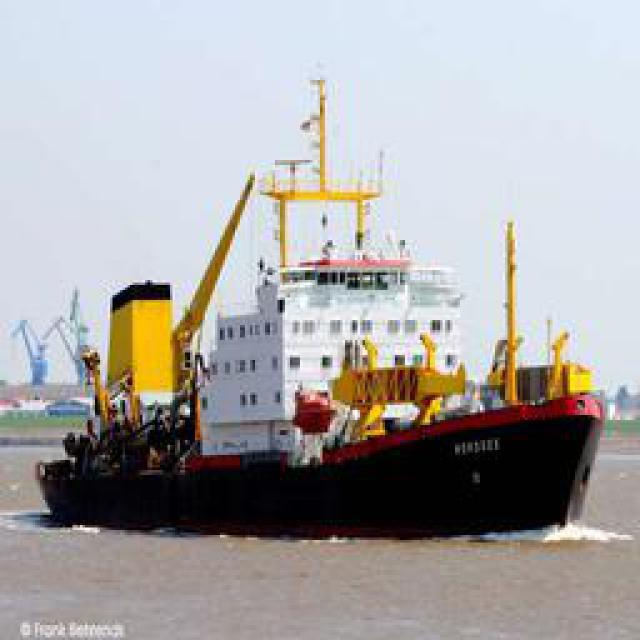Ship: (36, 72, 614, 522)
